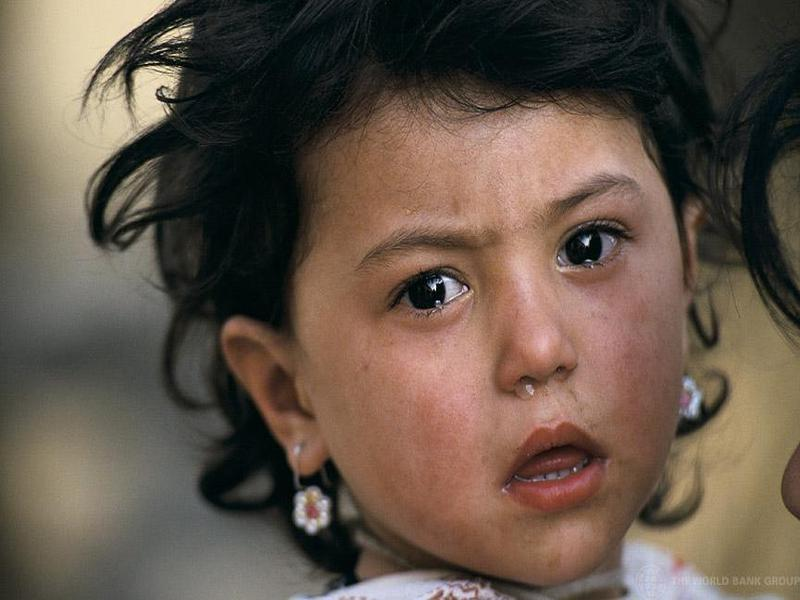person: (95, 1, 788, 600)
